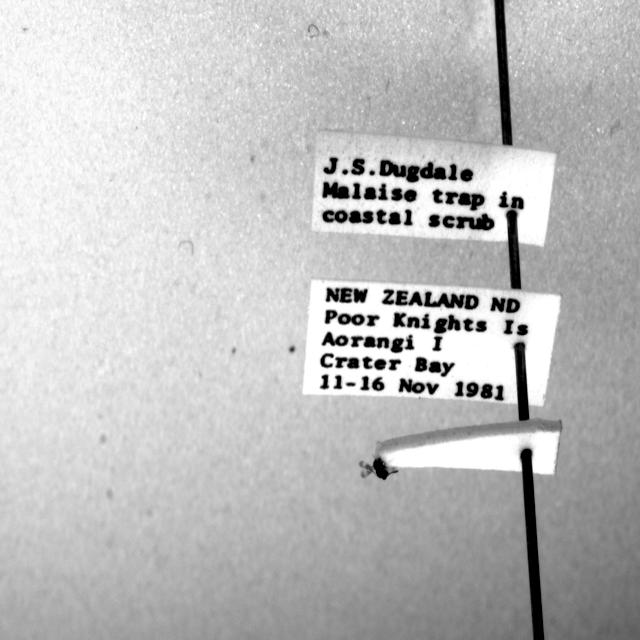typed_label: (302, 279, 561, 407), (312, 129, 556, 246)
